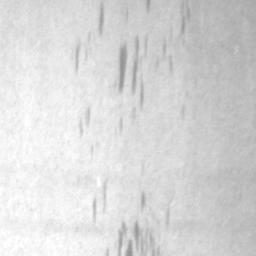Inclusion: (132, 40, 141, 93), (119, 45, 128, 91), (124, 242, 134, 256), (86, 109, 92, 124)
